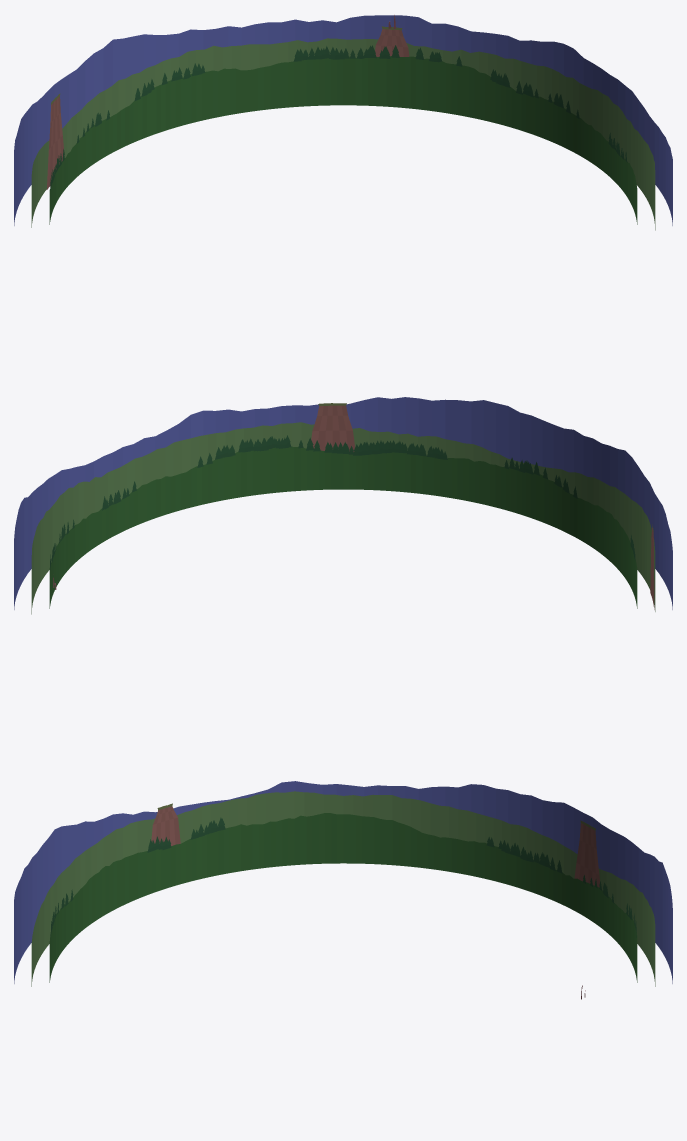
File: skyline_ring.glb
3 views of the same model, one above another, from view 1: azimuth 30°, elevation 25°; view 2: azimuth 150°, elevation 25°; view 3: azimuth 270°, elevation 25° (orthographic).
Visible parts, largest first — view 1: skyline_ring; view 2: skyline_ring; view 3: skyline_ring.
Part boxes in pixels (<box>): skyline_ring: <box>14,15,672,230</box>; skyline_ring: <box>14,397,672,614</box>; skyline_ring: <box>14,781,672,999</box>.
Size of the model in its own units: 740 by 113 by 740.
